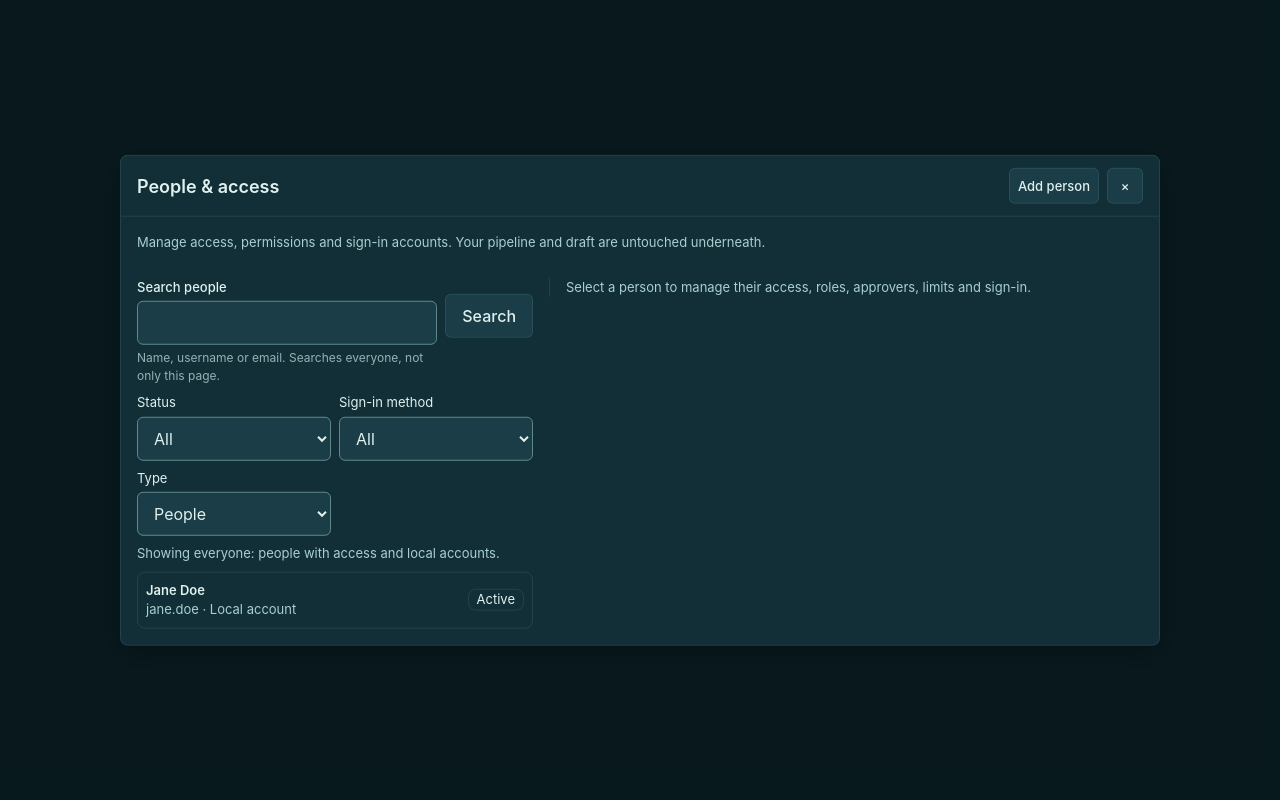
PeopleAccessDialog › generated passwords › says a lost reset answer needs a new reset, not retrieval
Click the button "Jane Doe jane.doe · Local account Active".
click(175, 589)  # box [137,571,533,628]
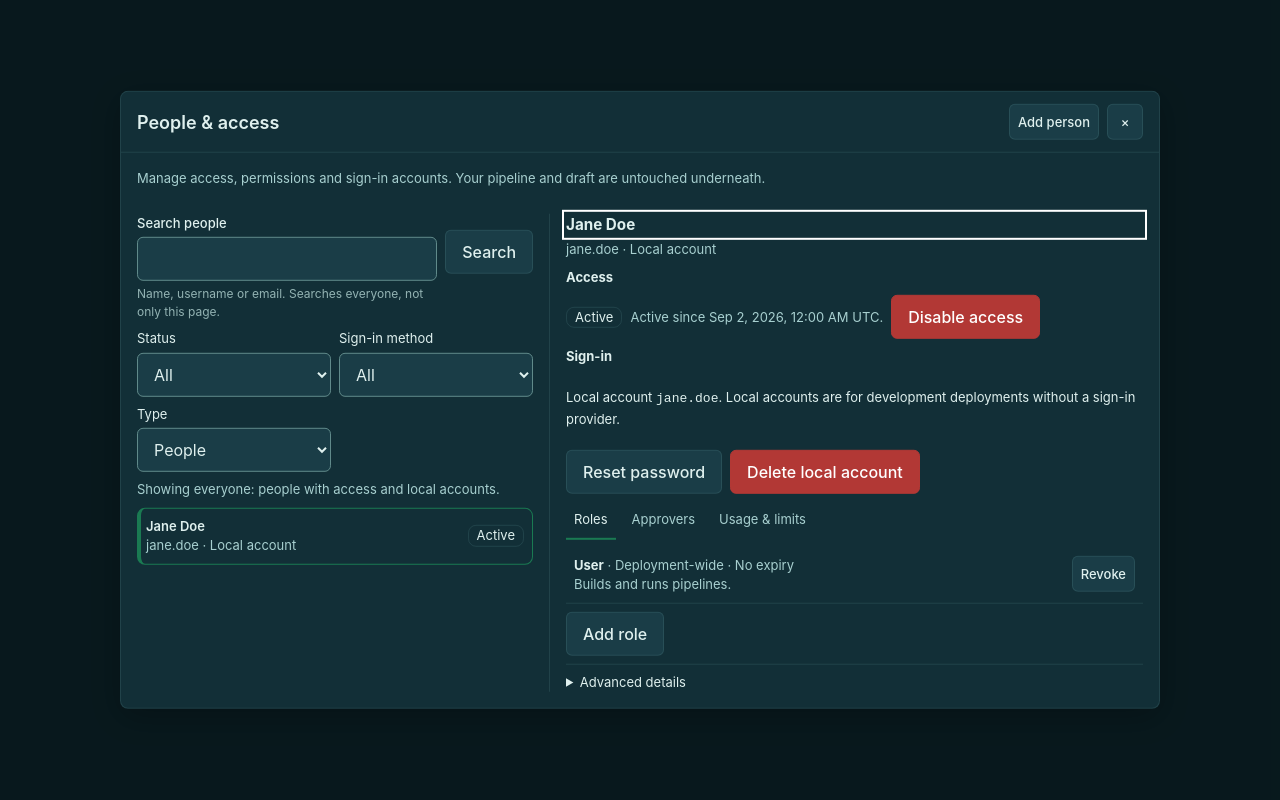
Click the button with aria-label "Reset password for Jane Doe".
click(644, 472)  # box [566,450,722,494]
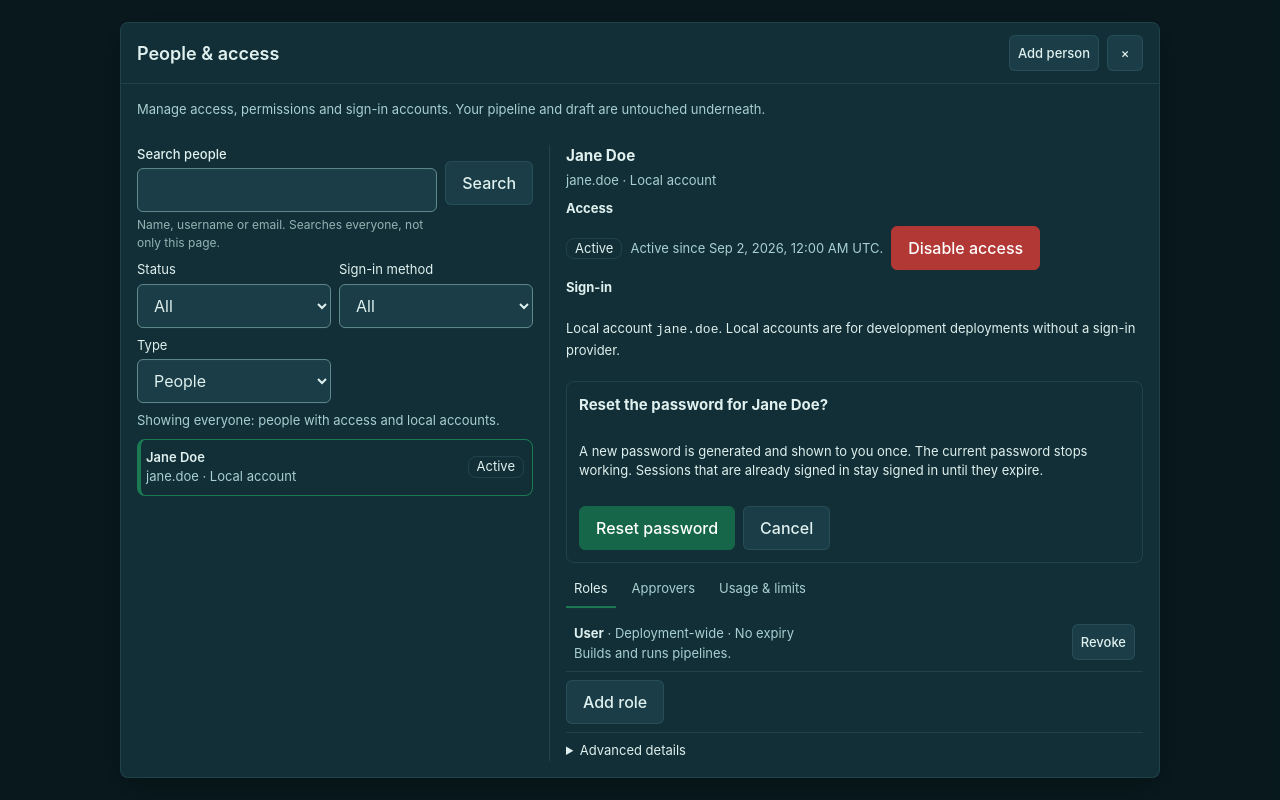
Expected: the text "already signed in stay signed in" is shown, [579,443,1088,478]
Click the button "Reset password".
click(657, 528)  # box [579,506,735,550]
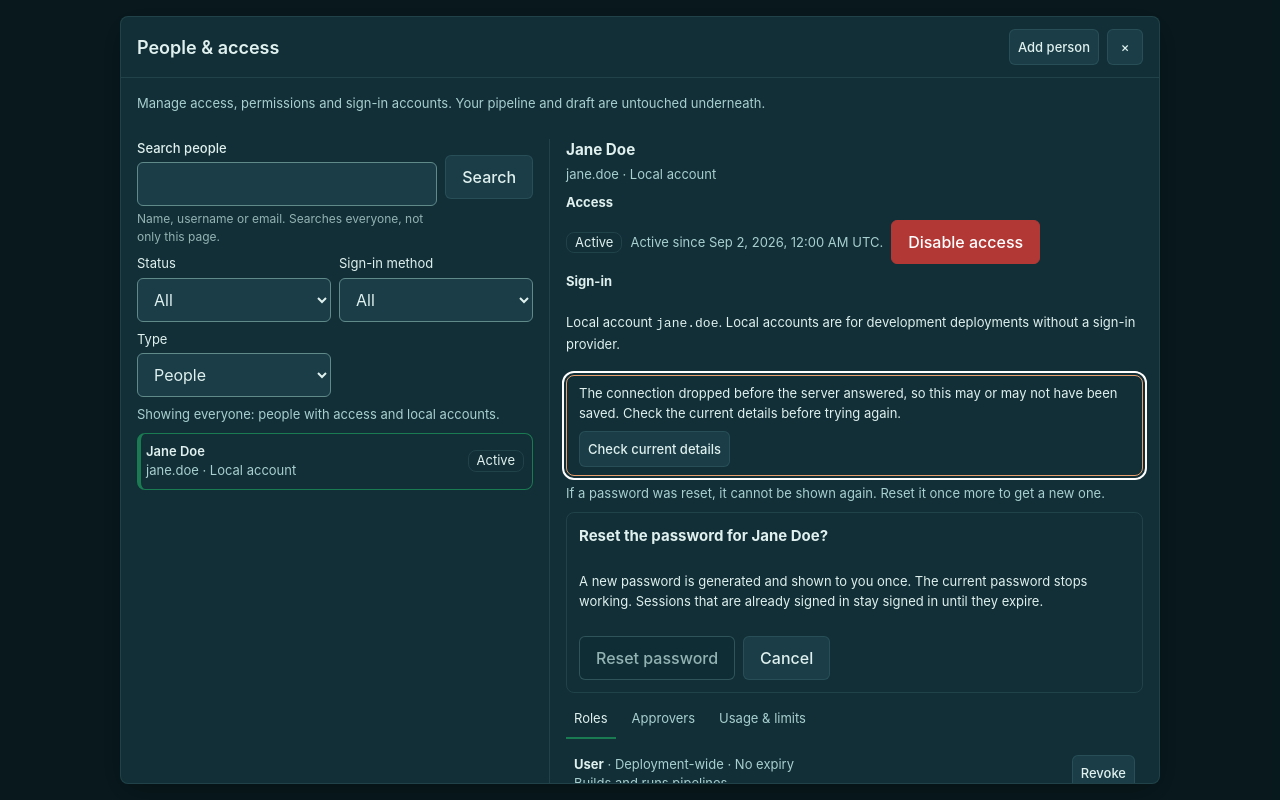
Expected: the text "cannot be shown again. Reset it once more" is shown, [566,485,1105,501]
